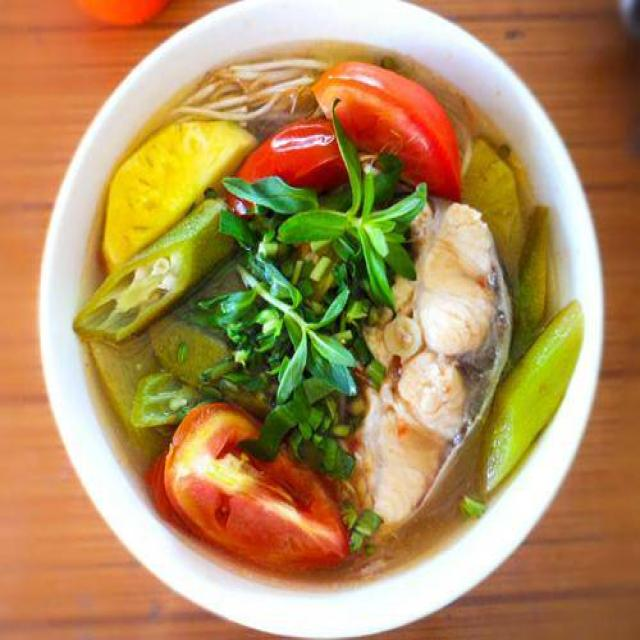canh chua: (78, 39, 585, 595)
